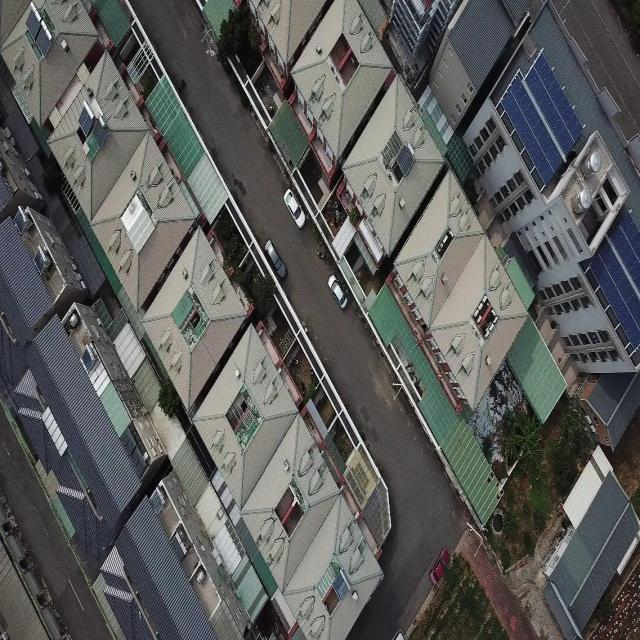car: (264, 237, 288, 281), (284, 186, 306, 230), (429, 543, 450, 585), (327, 273, 347, 310)
